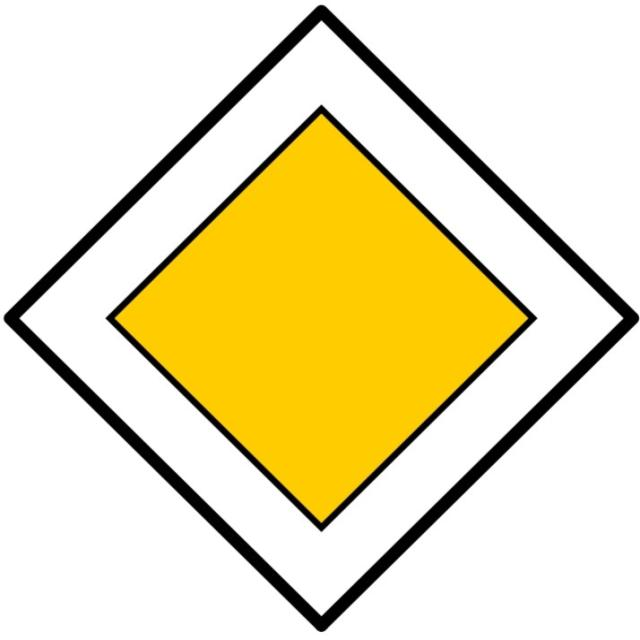priority: (0, 1, 640, 639)
